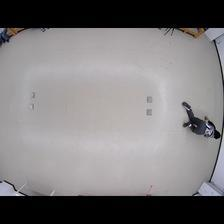fall: (180, 102, 220, 140)
